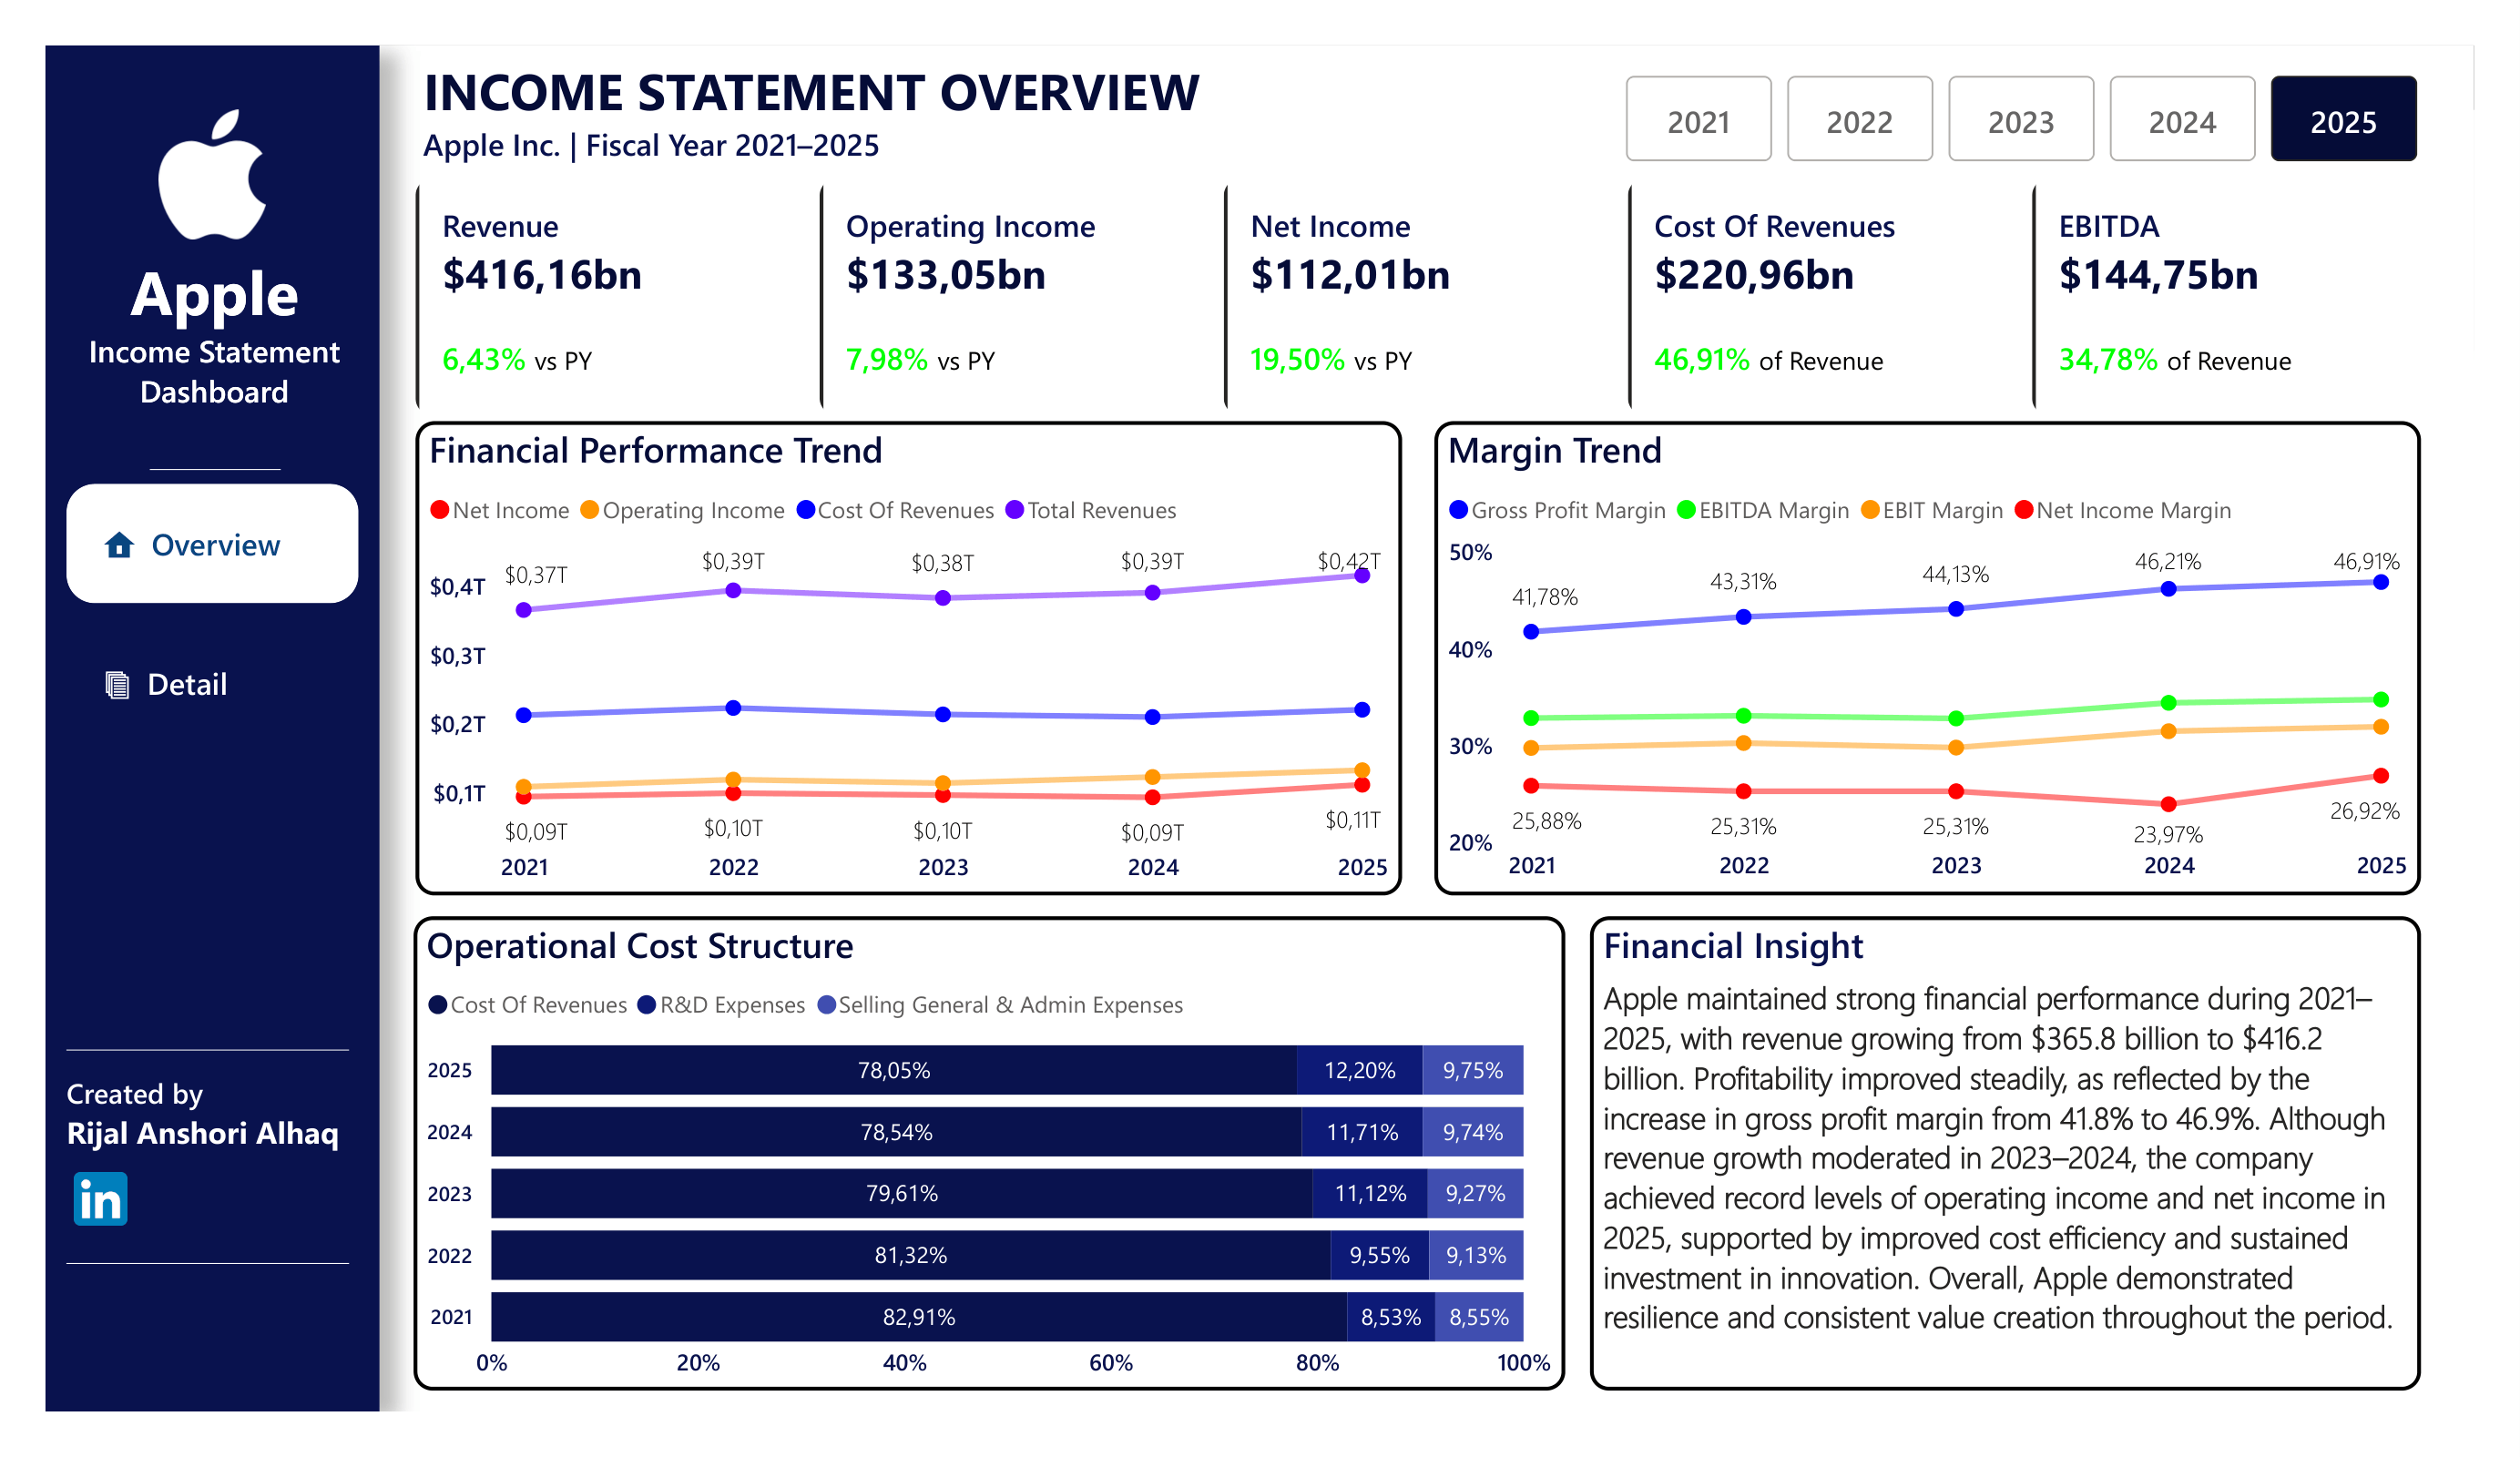

The page's visual inventory and layout, read from the dashboard file:
{"tool":"powerbi","page":{"name":"🏠︎  Overview","canvas":[1280,720],"ordinal":0},"visuals":[{"type":"shape","box":[0,0,176.1,720.2],"z":0,"group":"g2"},{"type":"textbox","box":[194.4,0,463.5,78.3],"z":0},{"type":"textbox","box":[11,536.8,149.2,53.8],"z":0,"group":"g1"},{"type":"cardVisual","fields":{"Data":["Sheet1.Total Revenues","Sheet1.Operating Income","Sheet1.Net Income","Sheet1.Gross Profit","Sheet1.EBITDA"]},"box":[195,68.6,1057,127.8],"z":1000},{"type":"textbox","box":[10.8,102.3,156.2,103.7],"z":1000,"group":"g2"},{"type":"image","box":[14.3,593.7,29.3,28.1],"z":1000,"group":"g1"},{"type":"image","box":[59.2,33.7,57.9,68.7],"z":2000,"group":"g2"},{"type":"lineChart","title":"Financial Performance Trend","fields":{"Category":["Sheet1.Year"],"Y":["Sheet1.Net Income","Sheet1.Operating Income","Sheet1.Gross Profit","Sheet1.Total Revenues"]},"box":[195,197.7,520.4,250.1],"z":2000},{"type":"textbox","box":[10.8,102.3,156.2,103.7],"z":3000,"group":"g2"},{"type":"lineChart","title":"Margin Trend","fields":{"Category":["Sheet1.Year"],"Y":["Sheet1.Gross Profit Margin","Sheet1.EBITDA Margin","Sheet1.EBIT Margin","Sheet1.Net Income Margin"]},"box":[731.6,197.7,520.4,250.1],"z":3000},{"type":"pageNavigator","box":[11,231.1,154.1,137],"z":4000,"group":"g2"},{"type":"hundredPercentStackedBarChart","title":"Operational Cost Structure","fields":{"Category":["Sheet1.Year"],"Y":["Sheet1.Cost Of Revenues","Sheet1.R&D Expenses","Sheet1.Selling General & Admin Expenses"]},"box":[194.4,458.6,606.5,250.7],"z":4000},{"type":"textbox","title":"Financial Insight","box":[814.4,458.6,437.8,250.7],"z":5000},{"type":"group","id":"g1","title":"Group 2","box":[11,536.8,149.2,85.6],"z":5000,"group":"g2"},{"type":"advancedSlicerVisual","fields":{"Values":["Sheet1.Year"]},"box":[832.7,11,419.4,55],"z":6000},{"type":"shape","box":[55,216.4,68.5,14.7],"z":6000,"group":"g2"},{"type":"shape","box":[11,522.1,149.2,14.7],"z":7000,"group":"g2"},{"type":"shape","box":[11,634.7,149.2,14.7],"z":8000,"group":"g2"},{"type":"group","id":"g2","title":"Group 1","box":[0,0,176.1,720.2],"z":11004}]}

Visuals, with their boxes on the page's 1280x720 design canvas (x1, y1, x2, y2). These are canvas units, not pixel positions in the 2520x1457 screenshot, which may show the page scaled, cropped or inside an application window:
shape: bbox=(0, 0, 176, 720)
textbox: bbox=(194, 0, 658, 78)
textbox: bbox=(11, 537, 160, 591)
cardVisual - Sheet1.Total Revenues x Sheet1.Operating Income: bbox=(195, 69, 1252, 196)
textbox: bbox=(11, 102, 167, 206)
image: bbox=(14, 594, 44, 622)
image: bbox=(59, 34, 117, 102)
"Financial Performance Trend" lineChart: bbox=(195, 198, 715, 448)
textbox: bbox=(11, 102, 167, 206)
"Margin Trend" lineChart: bbox=(732, 198, 1252, 448)
pageNavigator: bbox=(11, 231, 165, 368)
"Operational Cost Structure" hundredPercentStackedBarChart: bbox=(194, 459, 801, 709)
"Financial Insight" textbox: bbox=(814, 459, 1252, 709)
"Group 2" group: bbox=(11, 537, 160, 622)
advancedSlicerVisual - Sheet1.Year: bbox=(833, 11, 1252, 66)
shape: bbox=(55, 216, 124, 231)
shape: bbox=(11, 522, 160, 537)
shape: bbox=(11, 635, 160, 649)
"Group 1" group: bbox=(0, 0, 176, 720)
